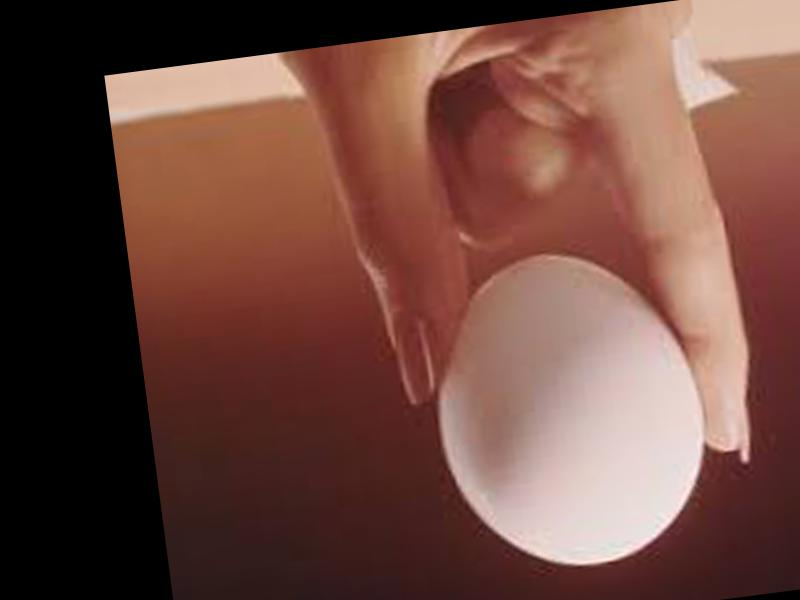Eggs: (414, 232, 719, 581)
